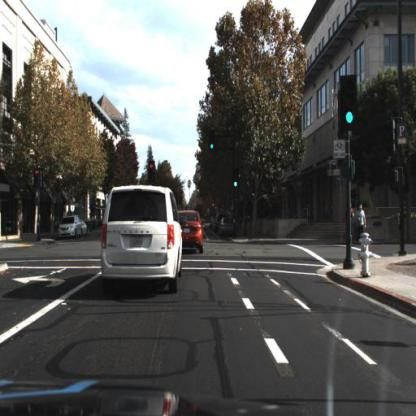car: (98, 181, 188, 306), (168, 203, 205, 269), (56, 215, 83, 241), (219, 217, 236, 238), (79, 219, 87, 240)
pedestrian: (355, 201, 367, 246), (347, 200, 355, 242)
trafficLight: (341, 75, 358, 129), (232, 167, 240, 193)
trafficLight-Green: (209, 127, 218, 156)
trafficLight-RedLeft: (33, 166, 43, 189), (147, 160, 156, 185), (35, 167, 43, 188)
